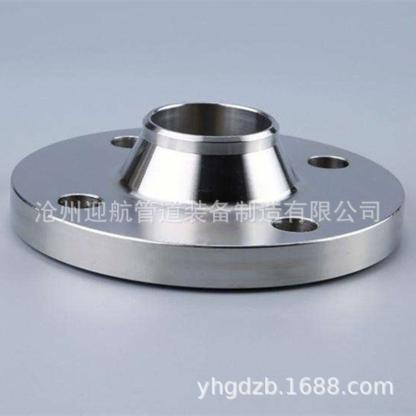FOD: (8, 96, 410, 296)
